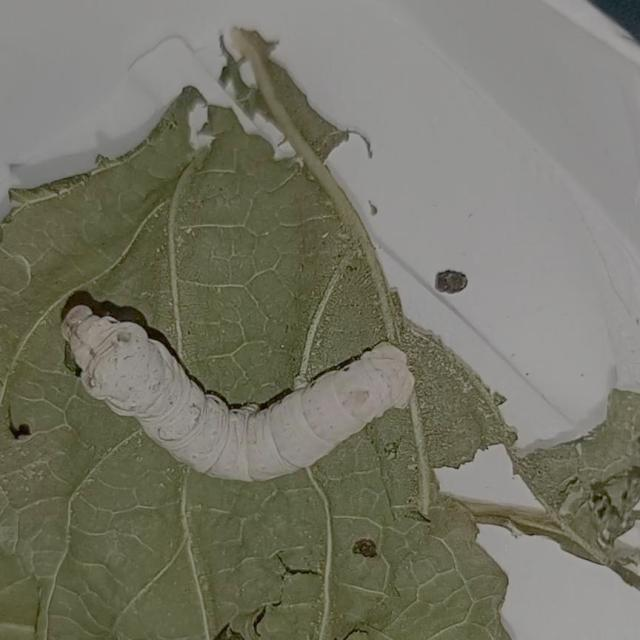Healthy: (53, 284, 425, 491)
